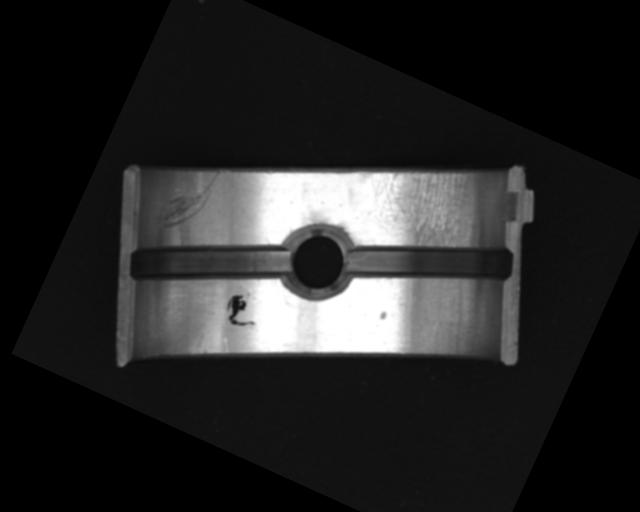blot: (219, 290, 265, 334)
bruise: (377, 309, 389, 322)
gap: (343, 191, 519, 334), (120, 192, 295, 335)
hole: (273, 219, 362, 308)
nick: (154, 153, 223, 242)
scratch: (347, 135, 498, 265)
